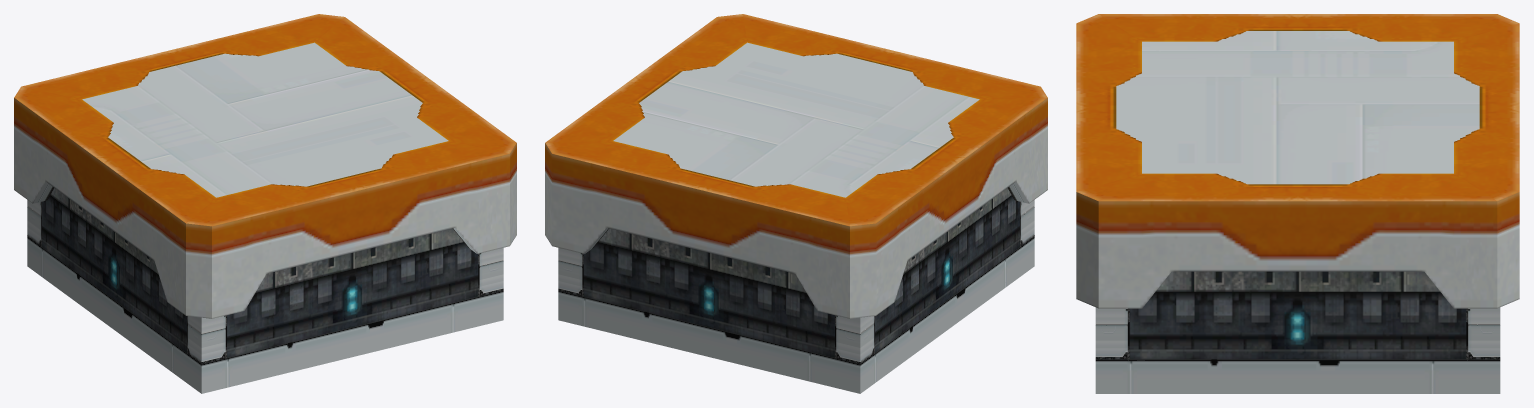
File: stg200_obj_footholdC.obj
3 views of the same model, side by side, from view 1: azimuth 30°, elevation 25°; view 2: azimuth 150°, elevation 25°; view 3: azimuth 270°, elevation 25° (orthographic). The views are drawn at different scales.
Parts seen in each view (by area): view 1: polygon1, polygon3, polygon2, polygon4, polygon0, polygon5; view 2: polygon1, polygon3, polygon2, polygon4, polygon0, polygon5; view 3: polygon3, polygon1, polygon2, polygon4, polygon0, polygon5.
Boxes of the visible parts, x1,y1,x2,y2 form: polygon1: [14, 98, 516, 318]; polygon3: [82, 42, 448, 197]; polygon2: [14, 14, 516, 226]; polygon4: [42, 188, 478, 357]; polygon0: [27, 181, 503, 393]; polygon5: [27, 200, 503, 363]; polygon1: [545, 98, 1047, 318]; polygon3: [613, 42, 979, 197]; polygon2: [545, 14, 1047, 226]; polygon4: [583, 188, 1019, 357]; polygon0: [558, 181, 1034, 393]; polygon5: [558, 200, 1034, 363]; polygon3: [1116, 31, 1479, 184]; polygon1: [1076, 192, 1519, 308]; polygon2: [1076, 14, 1519, 201]; polygon4: [1129, 271, 1466, 359]; polygon0: [1095, 359, 1500, 393]; polygon5: [1095, 307, 1500, 359].
Bounding box in the file's own units: 20 × 10 × 20.
6 materials, 6 textured.
